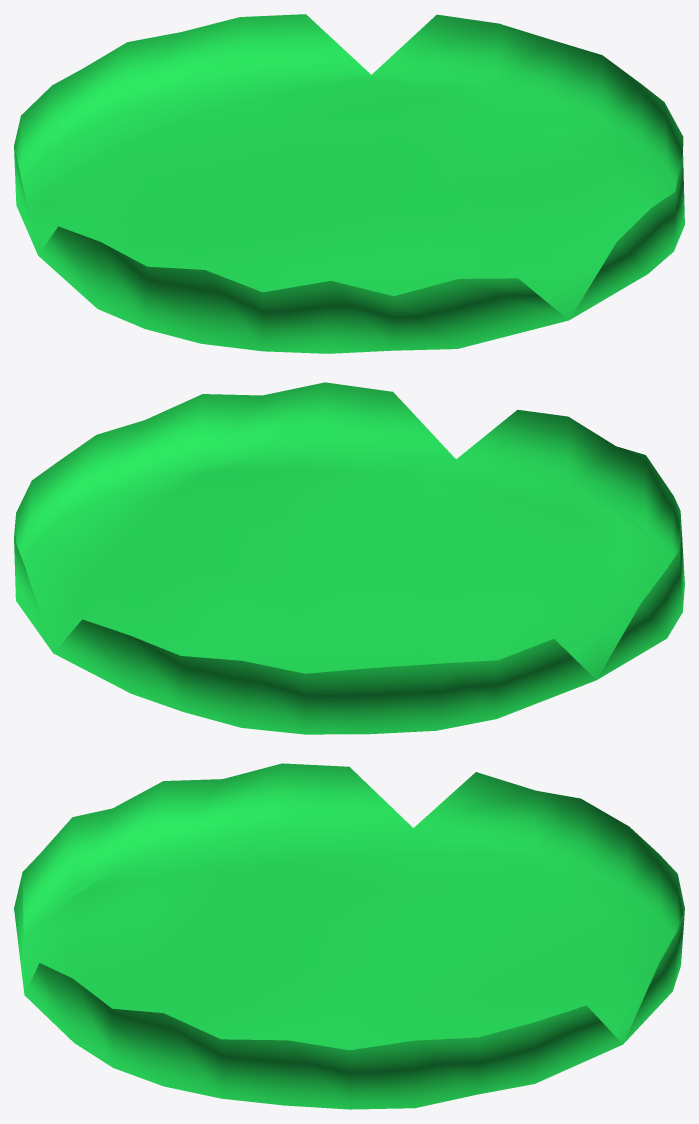
Rendered from kuvshinka.glb.
3 renders of one model, top to bottom at view 1: azimuth 30°, elevation 25°; view 2: azimuth 150°, elevation 25°; view 3: azimuth 270°, elevation 25°, orthographic.
Parts seen in each view (by area): view 1: Окружность; view 2: Окружность; view 3: Окружность.
Part boxes in pixels (x1,y1,x2,y2): Окружность: [14, 14, 684, 353]; Окружность: [14, 382, 684, 734]; Окружность: [14, 763, 684, 1109].
Size of the model in its own units: 2 by 0.2479 by 2.
